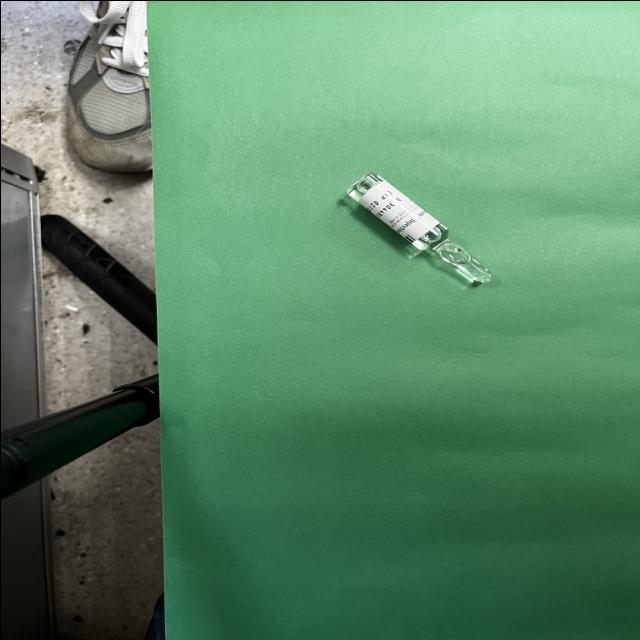Ampoules: (346, 172, 489, 282)
